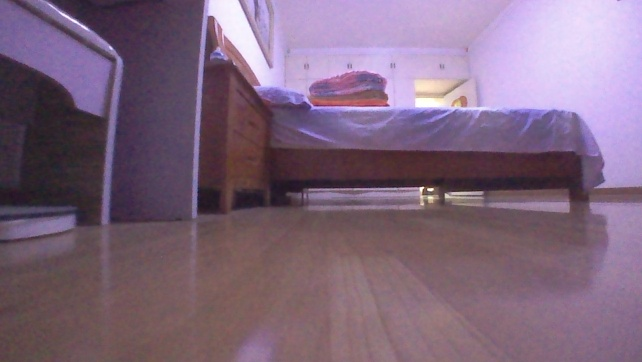bed: (207, 14, 610, 202)
cabinet: (198, 60, 276, 215)
